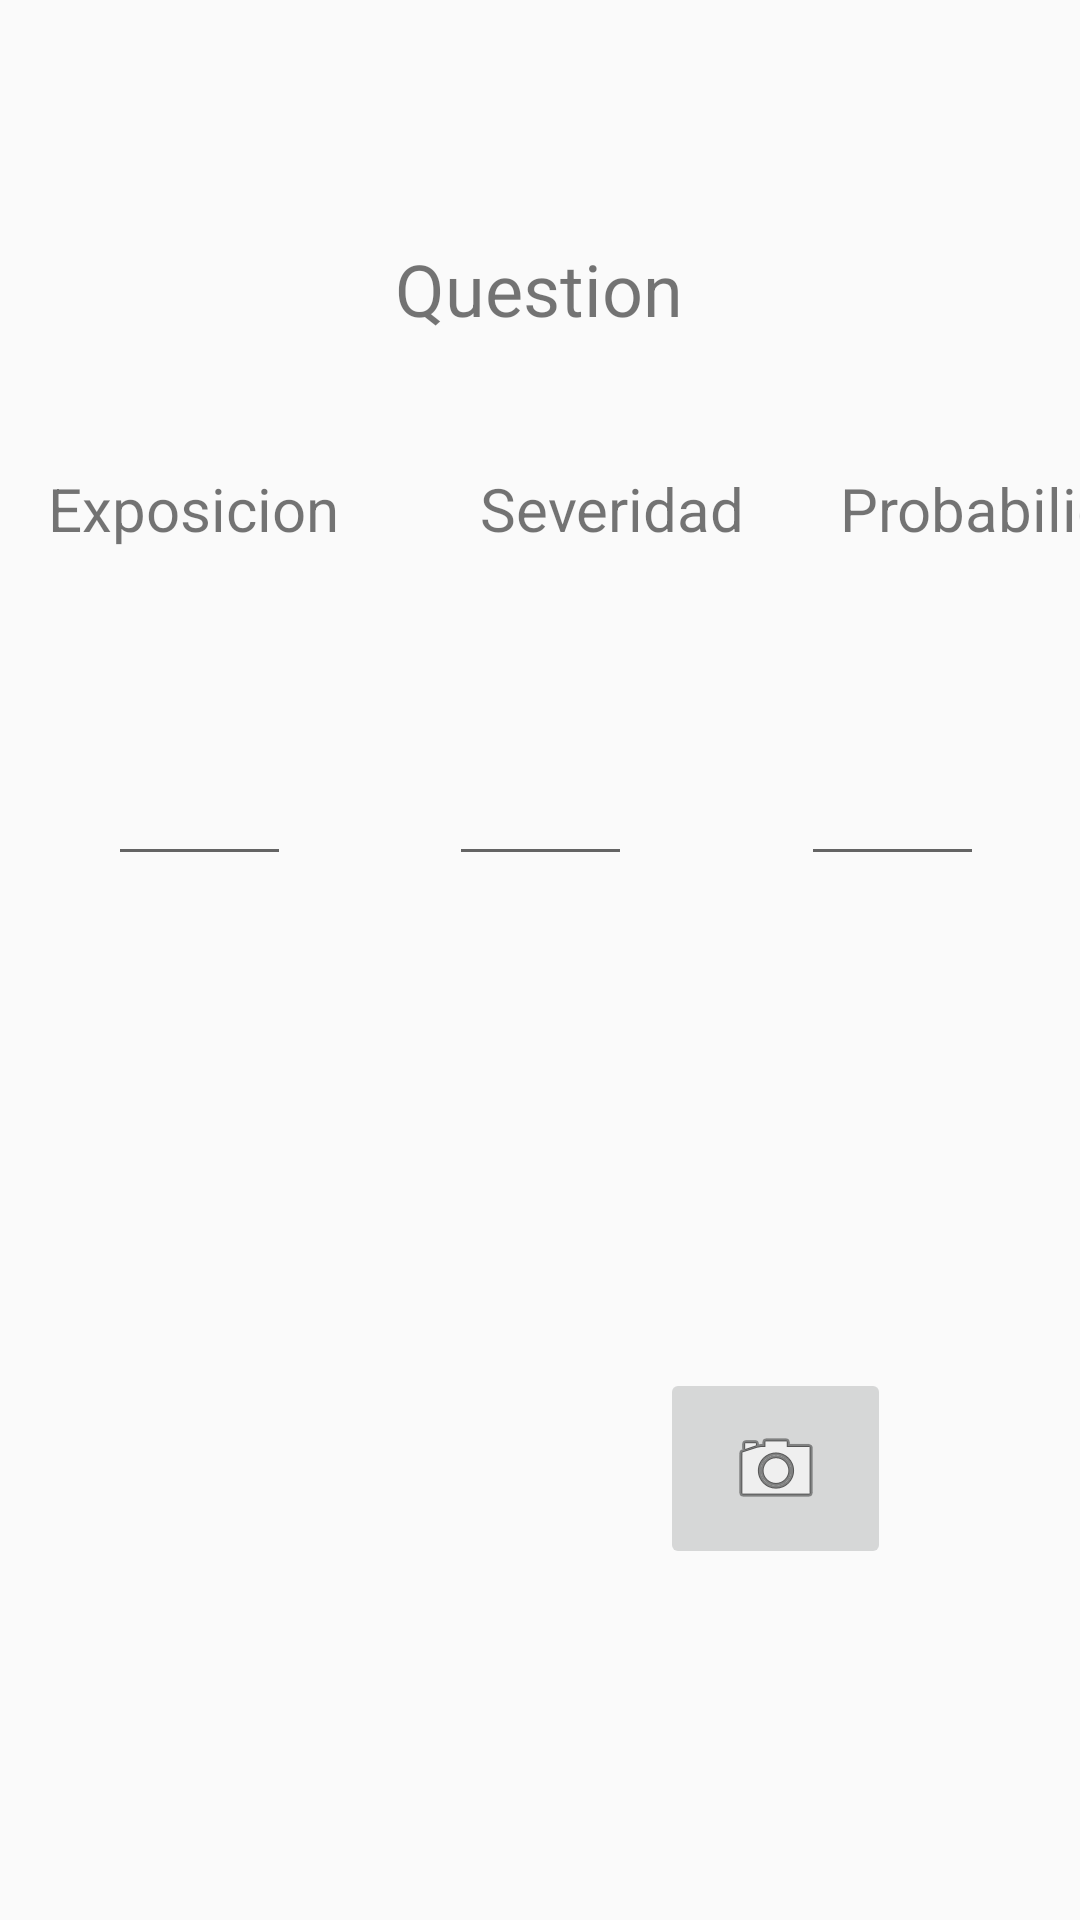

Named icons in this screenshot (1080w x 1920h) and their bounding boxes, detection(x1, y1, x2, y2):
camera: detection(672, 1386, 879, 1551)
